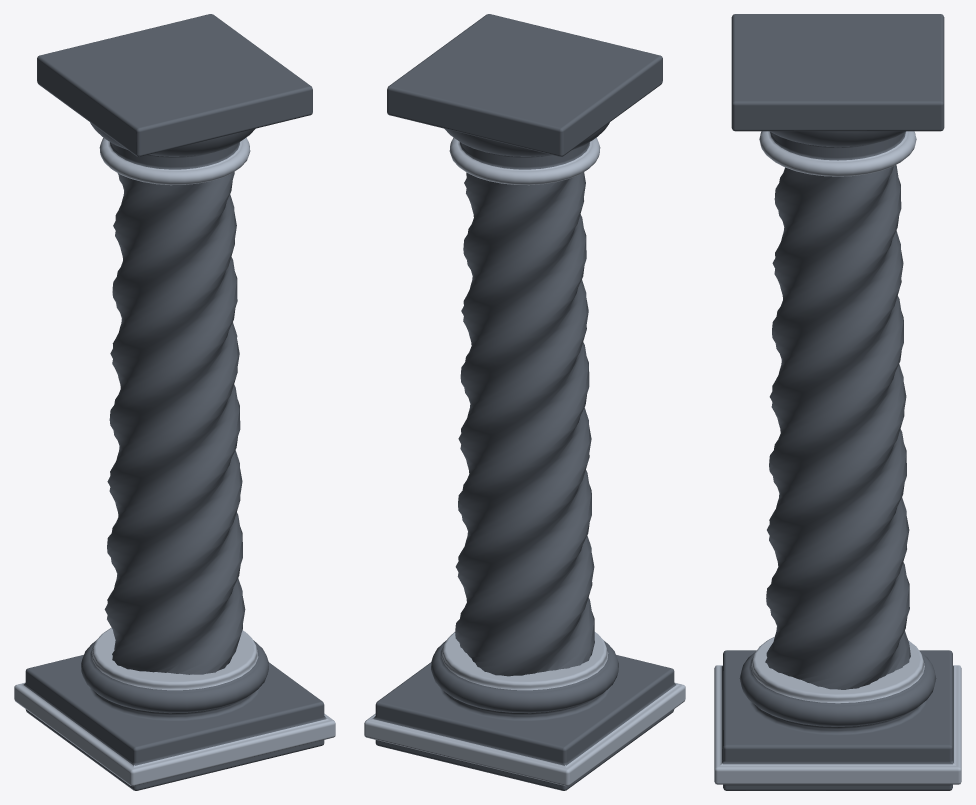
Rendered from column-solomonic.glb.
3 views of the same model, side by side, from view 1: azimuth 30°, elevation 25°; view 2: azimuth 150°, elevation 25°; view 3: azimuth 270°, elevation 25° (orthographic). The views are drawn at different scales.
Visible parts, largest first — view 1: column-solomonic-body; view 2: column-solomonic-body; view 3: column-solomonic-body.
Part boxes in pixels (bbox=[...]): column-solomonic-body: bbox=[14, 14, 335, 790]; column-solomonic-body: bbox=[364, 14, 685, 790]; column-solomonic-body: bbox=[714, 14, 961, 790].
Bounding box in the file's own units: 3.4 × 10.4 × 3.4.
